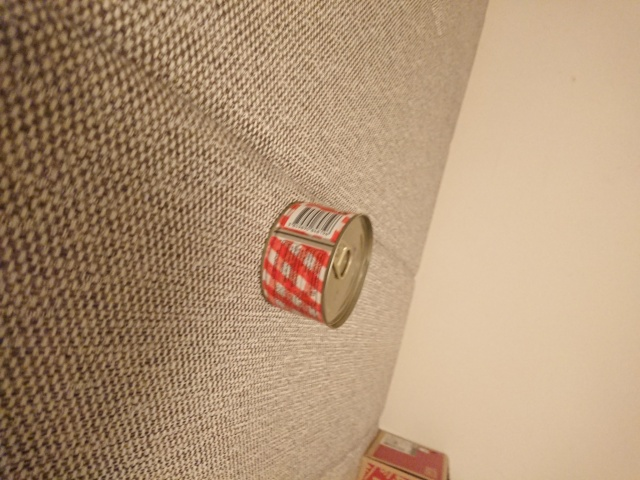Podravka Luncheon Meat 150g: (258, 198, 377, 332)
